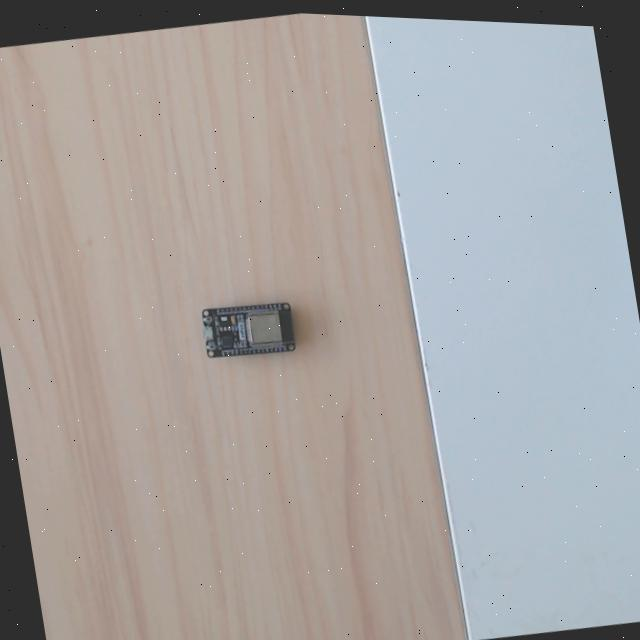ESP32-DevKit: (199, 299, 296, 360)
